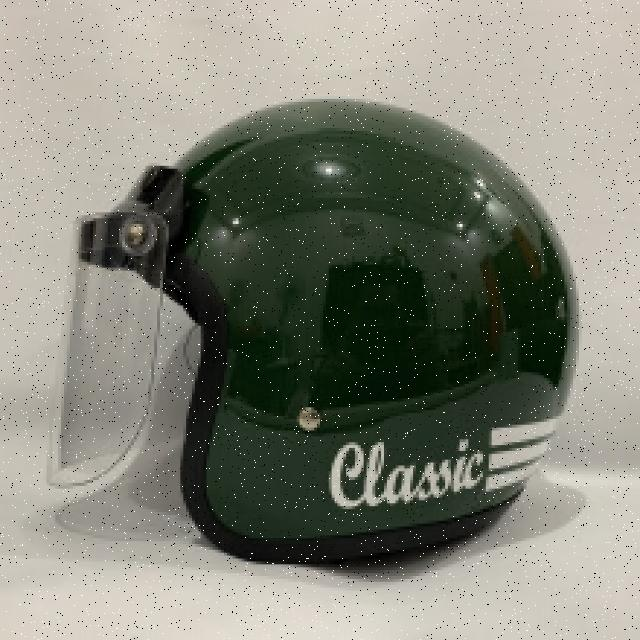Helmet: (55, 99, 585, 570)
